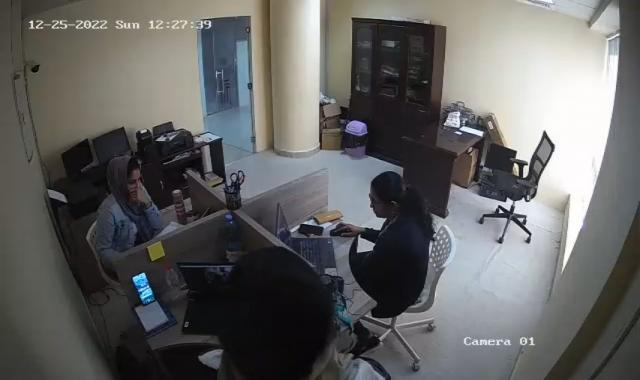no_hairnet: (213, 249, 333, 380), (366, 170, 413, 224), (103, 154, 143, 189)
